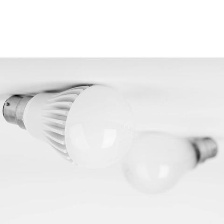light_bulb: (0, 80, 139, 172), (117, 128, 220, 199)
